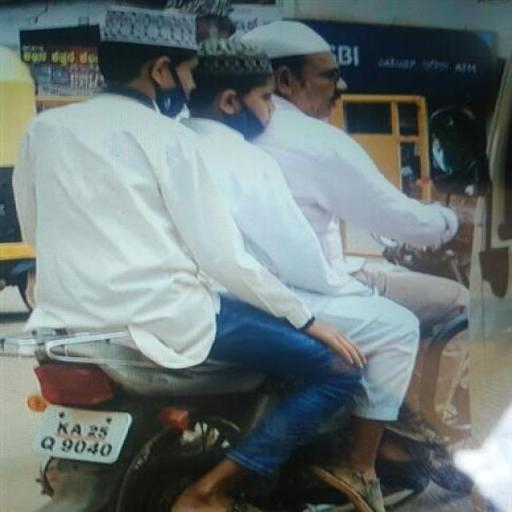tripple riding: (20, 8, 486, 334)
